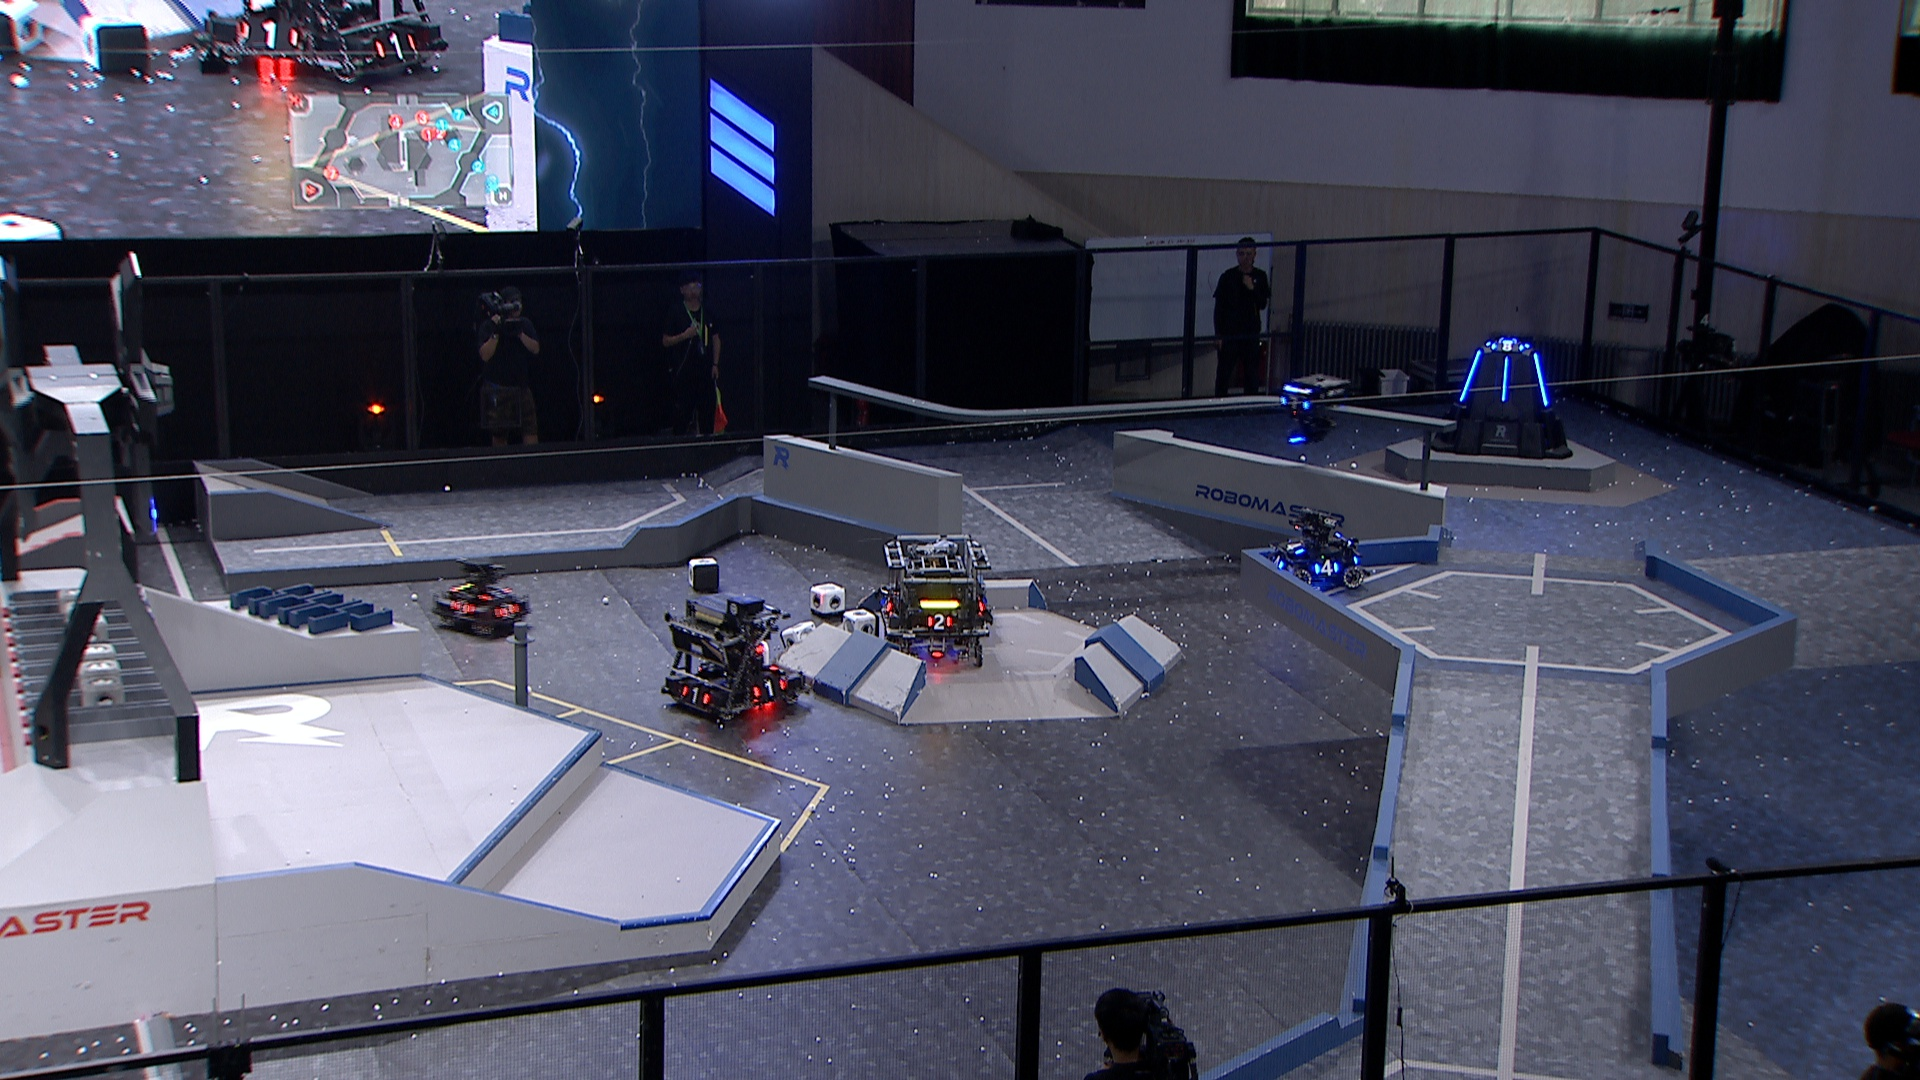armor: (1457, 348, 1484, 404), (1528, 349, 1553, 407), (679, 684, 712, 708), (750, 679, 789, 699), (1313, 556, 1342, 578), (926, 612, 955, 632), (1280, 394, 1311, 413), (446, 600, 477, 617), (1499, 353, 1510, 404), (477, 585, 508, 603), (1490, 339, 1524, 353), (493, 603, 520, 621), (1282, 538, 1305, 556), (1269, 553, 1286, 570)
base: (1424, 335, 1575, 462)
car: (657, 593, 807, 723), (876, 529, 994, 665), (1262, 508, 1366, 593), (427, 556, 529, 640)
ignore: (199, 0, 448, 86)
watcher: (1276, 371, 1346, 447)
